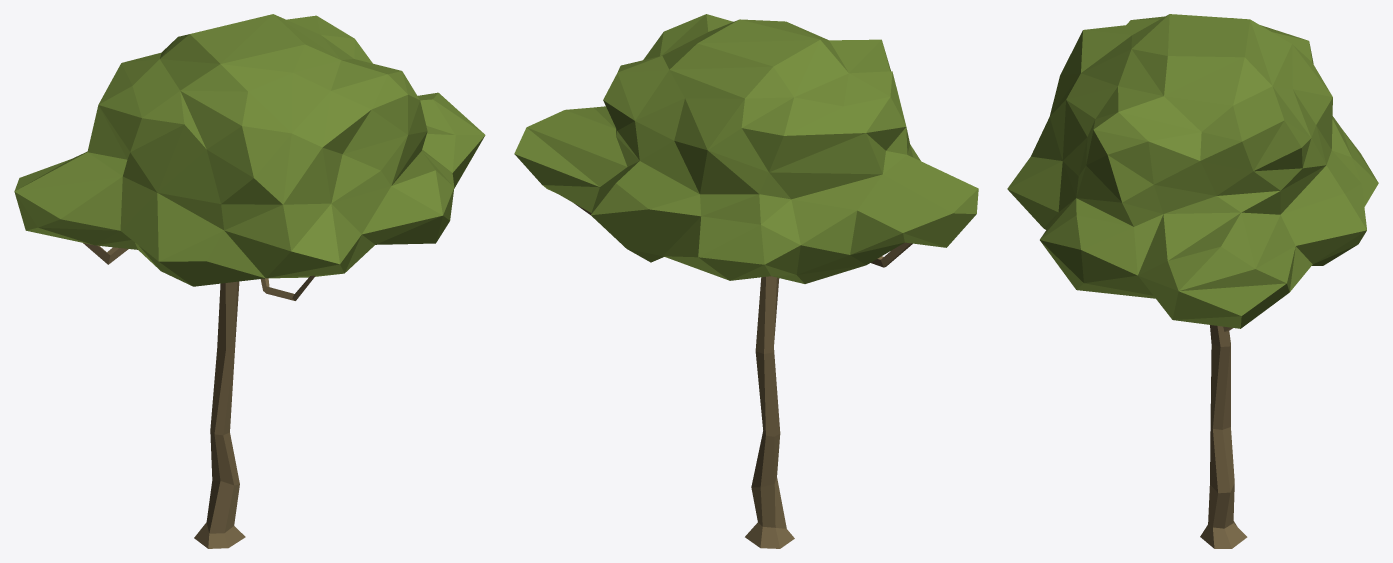
The model's file is Tree_3.fbx.
3 renders of one model, left to right at view 1: azimuth 30°, elevation 25°; view 2: azimuth 150°, elevation 25°; view 3: azimuth 270°, elevation 25°, orthographic. The views are drawn at different scales.
Visible parts, largest first — view 1: Tree_3; view 2: Tree_3; view 3: Tree_3.
Boxes of the visible parts, x1,y1,x2,y2 form: Tree_3: (14, 14, 485, 548); Tree_3: (514, 14, 978, 548); Tree_3: (1007, 14, 1378, 548).
Bounding box in the file's own units: 801 × 856 × 562.
